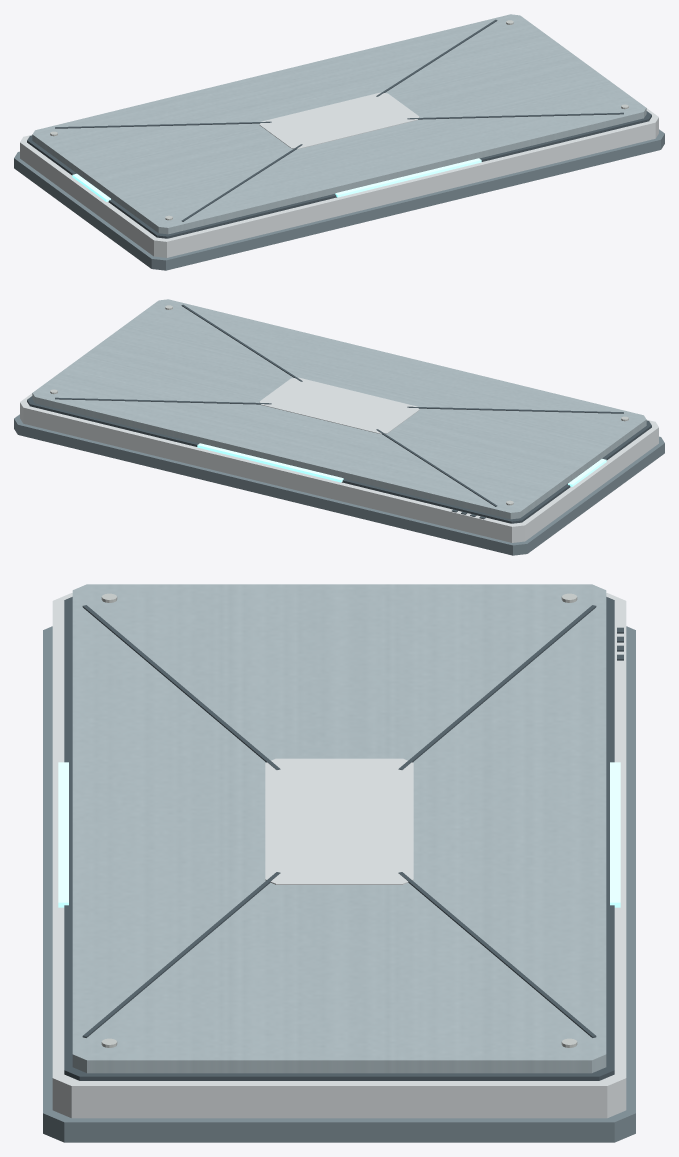
File: m02-metal-half-x.glb
The picture shows the model from 3 angles, top to bottom: view 1: azimuth 30°, elevation 25°; view 2: azimuth 150°, elevation 25°; view 3: azimuth 270°, elevation 25°; orthographic projection. The views are drawn at different scales.
Visible parts, largest first — view 1: half-x/003, half-x/001, half-x/000, half-x/004, half-x/002, half-x/014, half-x/008, half-x/005; view 2: half-x/003, half-x/001, half-x/000, half-x/004, half-x/002, half-x/013, half-x/007, half-x/006; view 3: half-x/003, half-x/001, half-x/000, half-x/004, half-x/002, half-x/013, half-x/014, half-x/007, half-x/008, half-x/005, half-x/006.
Part boxes in pixels (x1,y1,x2,y2): half-x/003: (32, 14, 646, 234); half-x/001: (20, 108, 658, 257); half-x/000: (14, 129, 664, 270); half-x/004: (259, 92, 419, 149); half-x/002: (27, 111, 651, 238); half-x/014: (335, 158, 481, 197); half-x/008: (407, 112, 623, 119); half-x/005: (55, 121, 271, 128); half-x/003: (32, 299, 646, 519); half-x/001: (20, 393, 658, 542); half-x/000: (14, 414, 664, 555); half-x/004: (259, 377, 419, 434); half-x/002: (27, 396, 651, 523); half-x/013: (197, 443, 343, 482); half-x/007: (55, 397, 271, 404); half-x/006: (407, 406, 623, 413); half-x/003: (72, 584, 606, 1073); half-x/001: (52, 593, 626, 1118); half-x/000: (43, 626, 635, 1142); half-x/004: (265, 758, 413, 884); half-x/002: (64, 597, 614, 1080); half-x/013: (610, 762, 620, 907); half-x/014: (58, 762, 68, 907); half-x/007: (398, 872, 596, 1037); half-x/008: (82, 872, 280, 1037); half-x/005: (398, 605, 596, 769); half-x/006: (82, 605, 280, 769).
Bounding box in the file's own units: 1 × 0.0678 × 0.5.
Materials: 6 (1 with a texture image).
